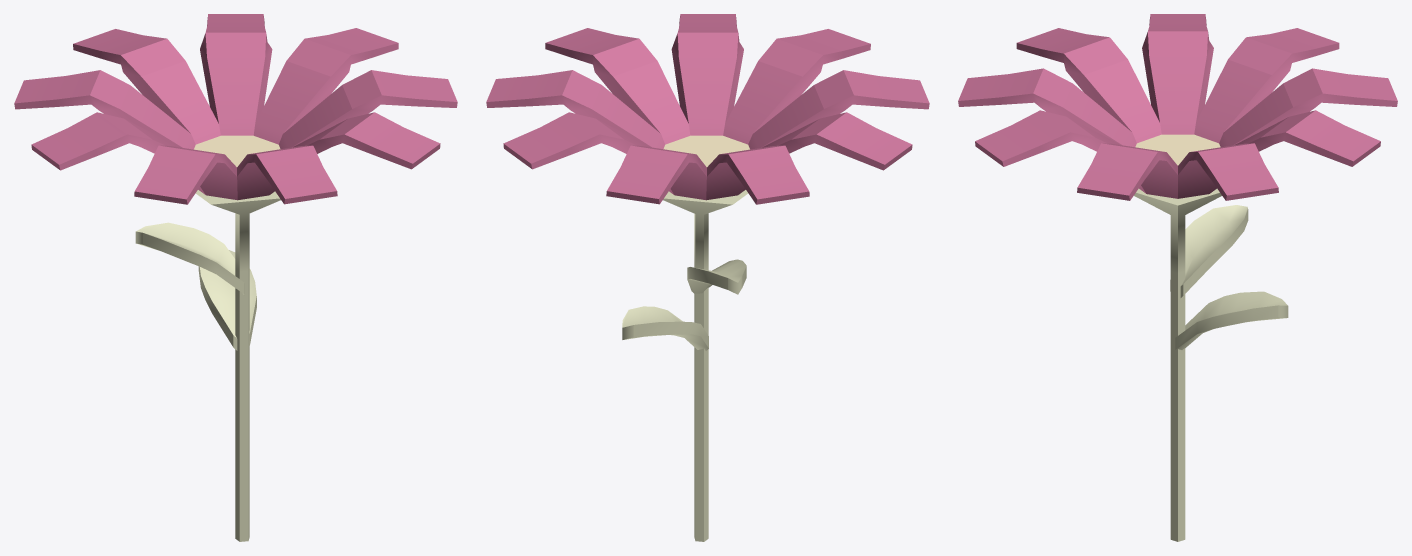
Rendered from Flor05.gltf.
3 renders of one model, left to right at view 1: azimuth 30°, elevation 25°; view 2: azimuth 150°, elevation 25°; view 3: azimuth 270°, elevation 25°, orthographic.
Visible parts, largest first — view 1: pPipe21, pPipe20, pCube13, pCube12, pCylinder4; view 2: pPipe21, pPipe20, pCube12, pCube13, pCylinder4; view 3: pPipe21, pPipe20, pCube13, pCube12, pCylinder4.
Boxes of the visible parts, bbox=[...] form: pPipe21: bbox=[14, 14, 457, 204]; pPipe20: bbox=[195, 190, 280, 541]; pCube13: bbox=[135, 222, 244, 294]; pCube12: bbox=[198, 250, 256, 350]; pCylinder4: bbox=[194, 135, 280, 166]; pPipe21: bbox=[486, 14, 929, 204]; pPipe20: bbox=[663, 190, 748, 541]; pCube12: bbox=[622, 306, 708, 350]; pCube13: bbox=[687, 259, 746, 294]; pCylinder4: bbox=[663, 135, 749, 166]; pPipe21: bbox=[958, 14, 1397, 200]; pPipe20: bbox=[1134, 188, 1221, 541]; pCube13: bbox=[1170, 205, 1248, 297]; pCube12: bbox=[1175, 291, 1288, 350]; pCylinder4: bbox=[1135, 134, 1220, 165].
Size of the model in its own units: 0.5529 by 0.6253 by 0.5614.
